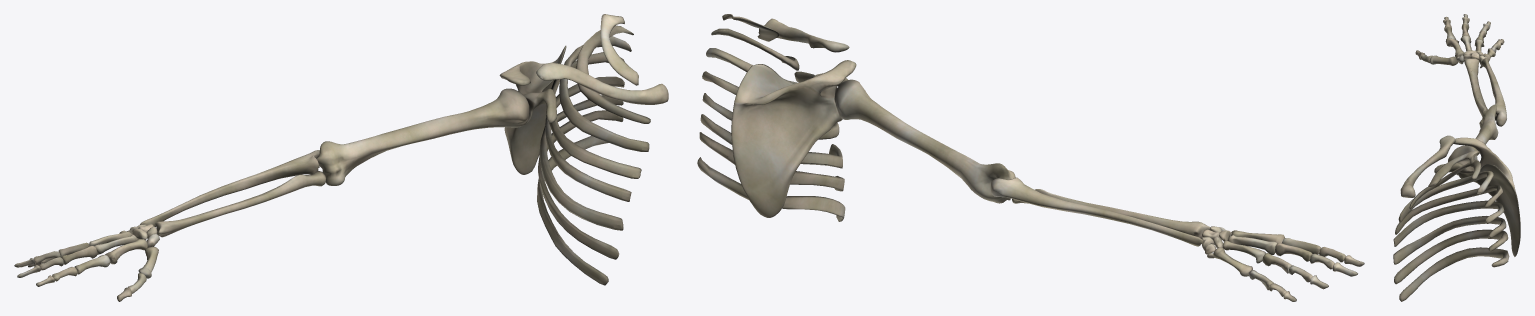
File: SkeletonExport.obj
3 views of the same model, side by side, from view 1: azimuth 30°, elevation 25°; view 2: azimuth 150°, elevation 25°; view 3: azimuth 270°, elevation 25° (orthographic). The views are drawn at different scales.
Visible parts, largest first — view 1: Bones Humerus_Left_High_Res1, Bones Scapula_High_Res1, Ulna_High_Res1 Bones, Bones Clavical_High_Res, Bones Radius_High_Res, Bones Rib_High_Res6, Bones Rib_High_Res9, Bones Rib_High_Res5, Bones Rib_High_Res7, Bones Rib_High_Res8, Bones Rib_High_Res, Bones Rib_High_Res10 (+2 smaller); view 2: Bones Scapula_High_Res1, Bones Humerus_Left_High_Res1, Ulna_High_Res1 Bones, Bones Rib_High_Res, Bones Radius_High_Res, Bones Rib_High_Res5, Bones Rib_High_Res6, Bones Clavical_High_Res, Bones Rib_High_Res10, Bones Rib_High_Res9, Bones Hand_Bone_High_Res24, Bones Rib_High_Res7 (+2 smaller); view 3: Bones Scapula_High_Res1, Bones Rib_High_Res, Bones Rib_High_Res5, Bones Rib_High_Res6, Bones Rib_High_Res7, Bones Rib_High_Res8, Bones Humerus_Left_High_Res1, Bones Rib_High_Res9, Bones Clavical_High_Res, Ulna_High_Res1 Bones, Bones Radius_High_Res, Bones Rib_High_Res10 (+6 smaller).
Part boxes in pixels (box(x1,y1,x2,y2)): Bones Humerus_Left_High_Res1: box(317, 88, 529, 185); Bones Scapula_High_Res1: box(499, 45, 566, 174); Ulna_High_Res1 Bones: box(140, 150, 319, 226); Bones Clavical_High_Res: box(536, 62, 668, 104); Bones Radius_High_Res: box(155, 171, 326, 237); Bones Rib_High_Res6: box(539, 95, 623, 230); Bones Rib_High_Res9: box(559, 36, 649, 151); Bones Rib_High_Res5: box(538, 110, 623, 259); Bones Rib_High_Res7: box(545, 76, 631, 201); Bones Rib_High_Res8: box(549, 52, 641, 178); Bones Rib_High_Res: box(537, 135, 608, 285); Bones Rib_High_Res10: box(576, 25, 650, 123); Bones Scapula_High_Res1: box(731, 60, 856, 217); Bones Humerus_Left_High_Res1: box(835, 79, 1015, 203); Ulna_High_Res1 Bones: box(990, 177, 1203, 246); Bones Rib_High_Res: box(697, 157, 845, 221); Bones Radius_High_Res: box(1012, 189, 1210, 238); Bones Rib_High_Res5: box(699, 132, 844, 191); Bones Rib_High_Res6: box(700, 114, 842, 168); Bones Clavical_High_Res: box(764, 18, 849, 52); Bones Rib_High_Res10: box(711, 28, 799, 70); Bones Rib_High_Res9: box(706, 48, 814, 83); Bones Hand_Bone_High_Res24: box(1201, 226, 1231, 258); Bones Rib_High_Res7: box(702, 93, 839, 139); Bones Scapula_High_Res1: box(1434, 137, 1520, 256); Bones Rib_High_Res: box(1399, 247, 1509, 301); Bones Rib_High_Res5: box(1394, 229, 1508, 284); Bones Rib_High_Res6: box(1393, 216, 1506, 264); Bones Rib_High_Res7: box(1393, 200, 1504, 246); Bones Rib_High_Res8: box(1395, 185, 1502, 234); Bones Humerus_Left_High_Res1: box(1448, 104, 1498, 175); Bones Rib_High_Res9: box(1398, 171, 1493, 222); Bones Clavical_High_Res: box(1400, 135, 1455, 197); Ulna_High_Res1 Bones: box(1481, 58, 1506, 126); Bones Radius_High_Res: box(1464, 58, 1487, 117); Bones Rib_High_Res10: box(1409, 160, 1480, 209).
Bounding box in the file's own units: 9.84 × 3.36 × 2.29.
Materials: 1 (1 with a texture image).
